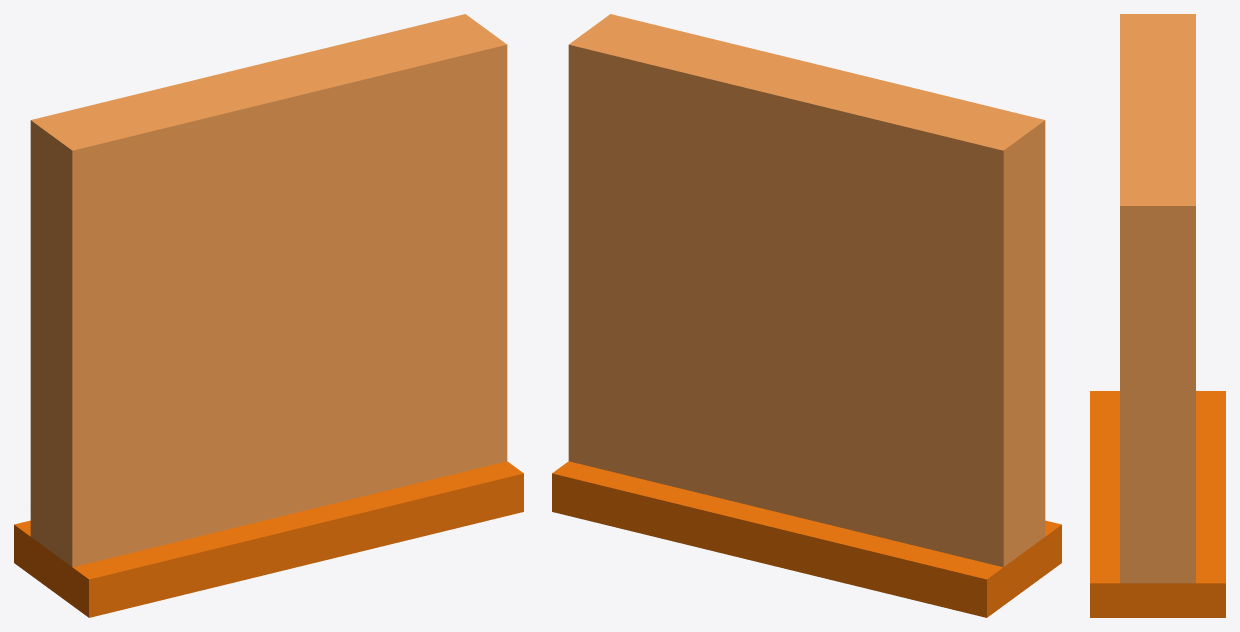
File: Wall C.fbx
3 renders of one model, left to right at view 1: azimuth 30°, elevation 25°; view 2: azimuth 150°, elevation 25°; view 3: azimuth 270°, elevation 25°, orthographic. The views are drawn at different scales.
Visible parts, largest first — view 1: Wall C; view 2: Wall C; view 3: Wall C.
Boxes of the visible parts, left/top/right/bottom form: Wall C: left=14, top=14, right=523, bottom=617; Wall C: left=552, top=14, right=1061, bottom=617; Wall C: left=1090, top=14, right=1225, bottom=617.
Bounding box in the file's own units: 300 × 300 × 89.76.
